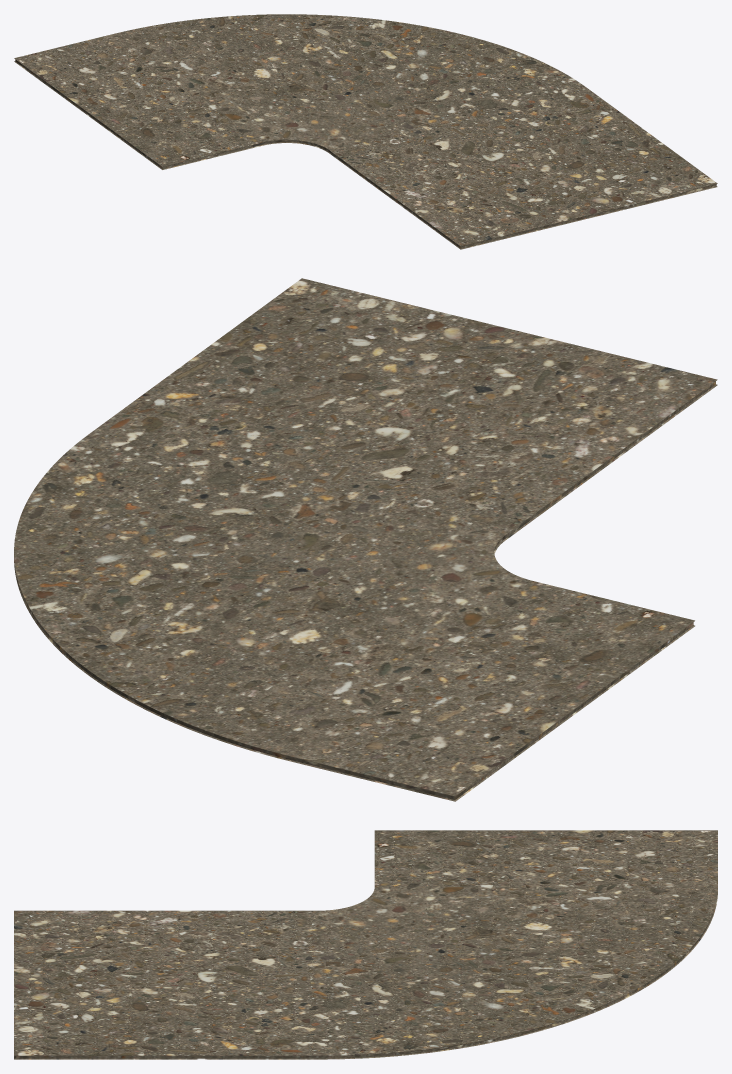
Rendered from Airfield_Taxiway_HQ23_Compact_LOD2.glb.
3 views of the same model, one above another, from view 1: azimuth 30°, elevation 25°; view 2: azimuth 150°, elevation 25°; view 3: azimuth 270°, elevation 25° (orthographic). The views are drawn at different scales.
Visible parts, largest first — view 1: Airfield Taxiway Apron-to-Runway LOD2; view 2: Airfield Taxiway Apron-to-Runway LOD2; view 3: Airfield Taxiway Apron-to-Runway LOD2.
Part boxes in pixels (left/top/right/bottom): Airfield Taxiway Apron-to-Runway LOD2: left=14, top=14, right=717, bottom=249; Airfield Taxiway Apron-to-Runway LOD2: left=14, top=278, right=717, bottom=801; Airfield Taxiway Apron-to-Runway LOD2: left=14, top=830, right=717, bottom=1059.
Size of the model in its own units: 28.08 by 0.22 by 37.08.
Materials: 1 (1 with a texture image).
